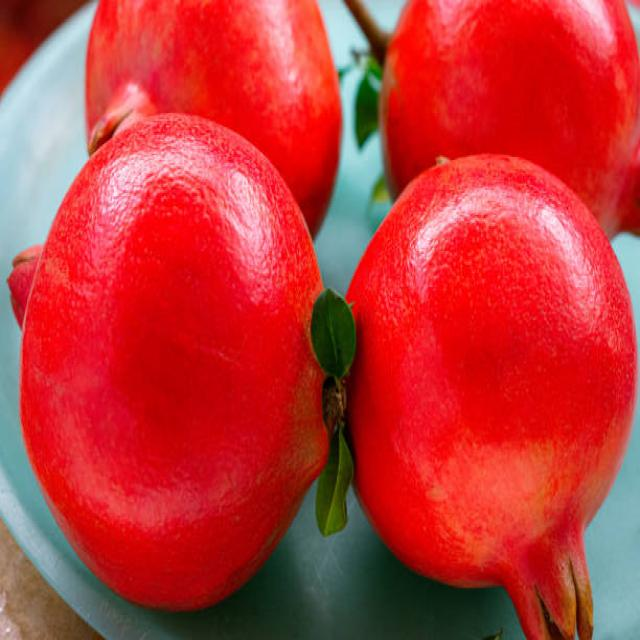Ripe: (6, 110, 350, 617), (354, 151, 639, 640), (375, 0, 640, 148), (61, 0, 358, 112)
